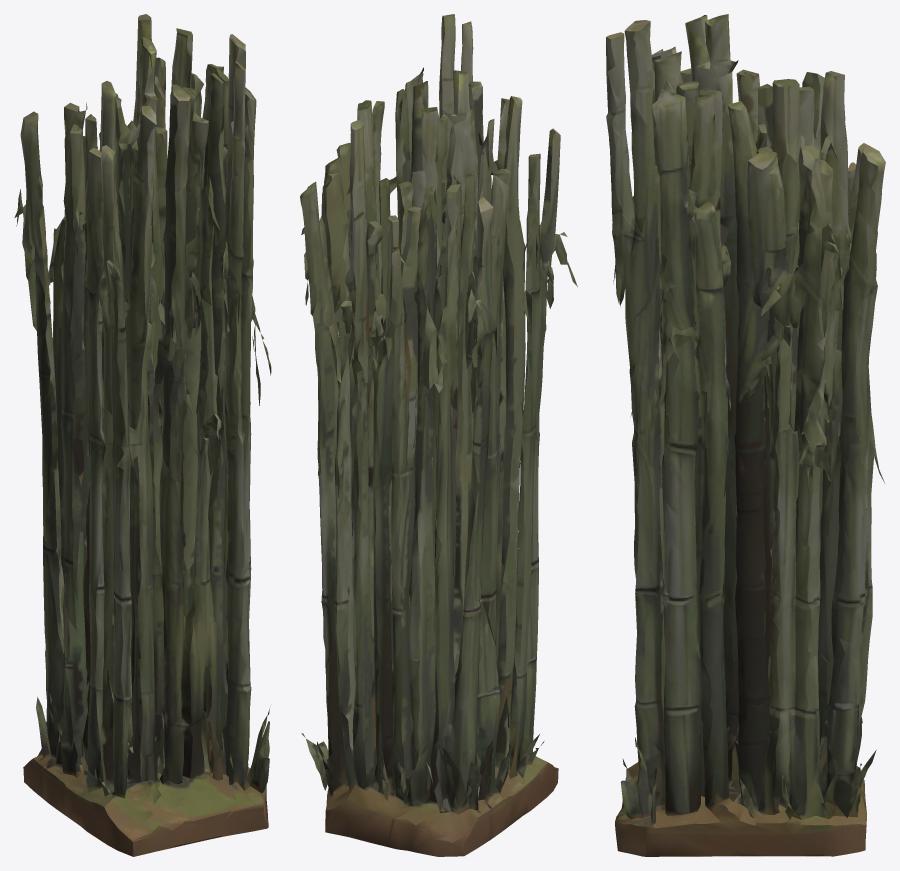
File: bamboo_cluster_full.glb
The picture shows the model from 3 angles, left to right: view 1: azimuth 30°, elevation 25°; view 2: azimuth 150°, elevation 25°; view 3: azimuth 270°, elevation 25°; orthographic projection. The views are drawn at different scales.
Parts seen in each view (by area): view 1: bamboo_cluster_full; view 2: bamboo_cluster_full; view 3: bamboo_cluster_full.
Part boxes in pixels (x1,y1,x2,y2): bamboo_cluster_full: [14, 14, 271, 856]; bamboo_cluster_full: [300, 14, 577, 856]; bamboo_cluster_full: [606, 14, 885, 856].
Bounding box in the file's own units: 1.78 × 7 × 2.17.
1 material, 1 textured.
